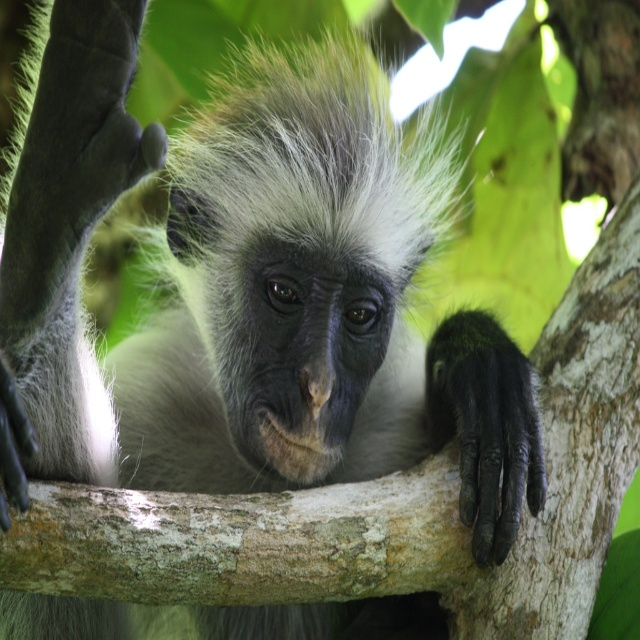Monkey: (0, 0, 547, 567)
